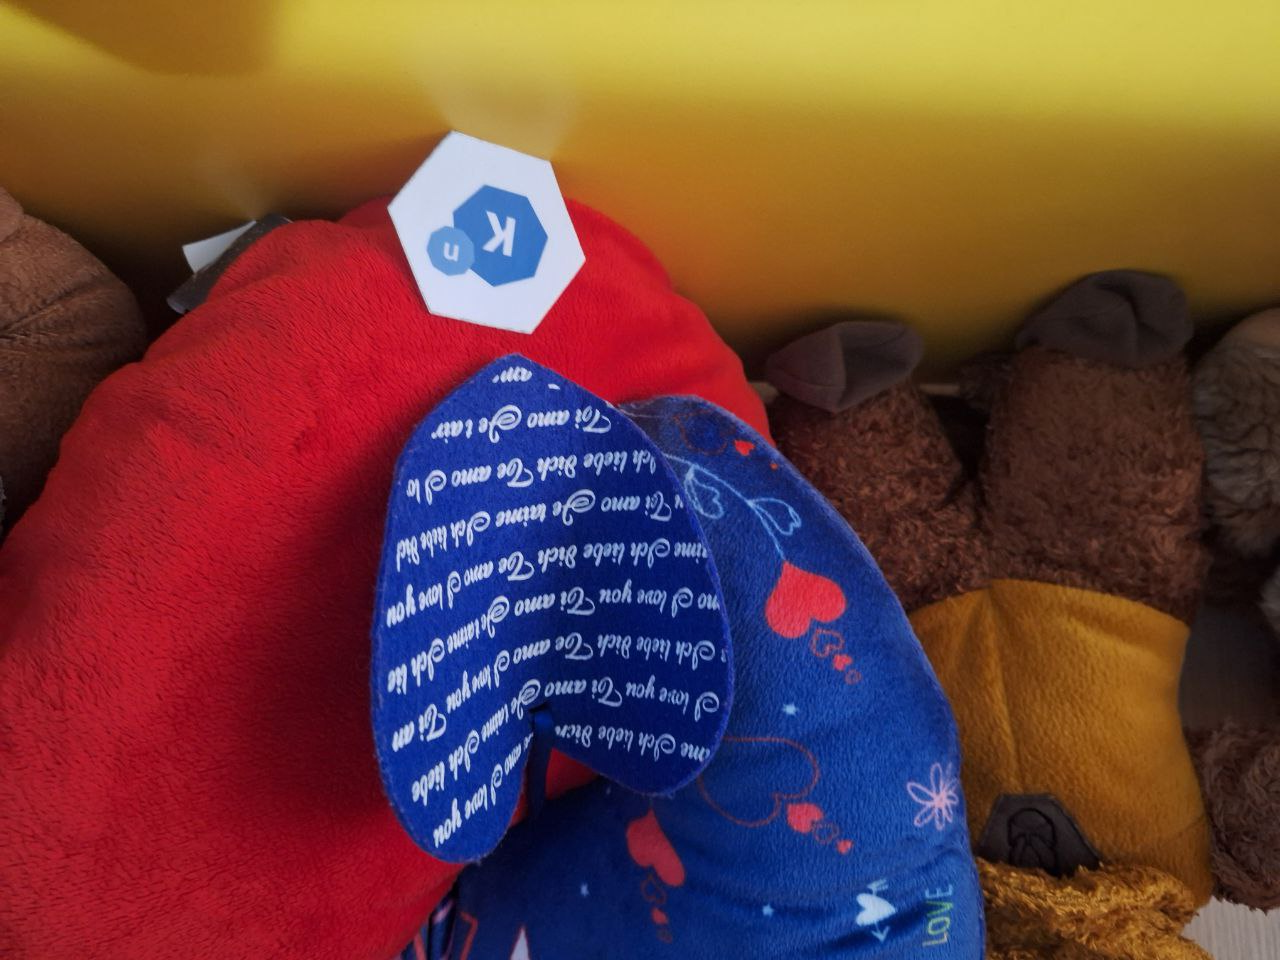knative: (425, 179, 549, 290)
